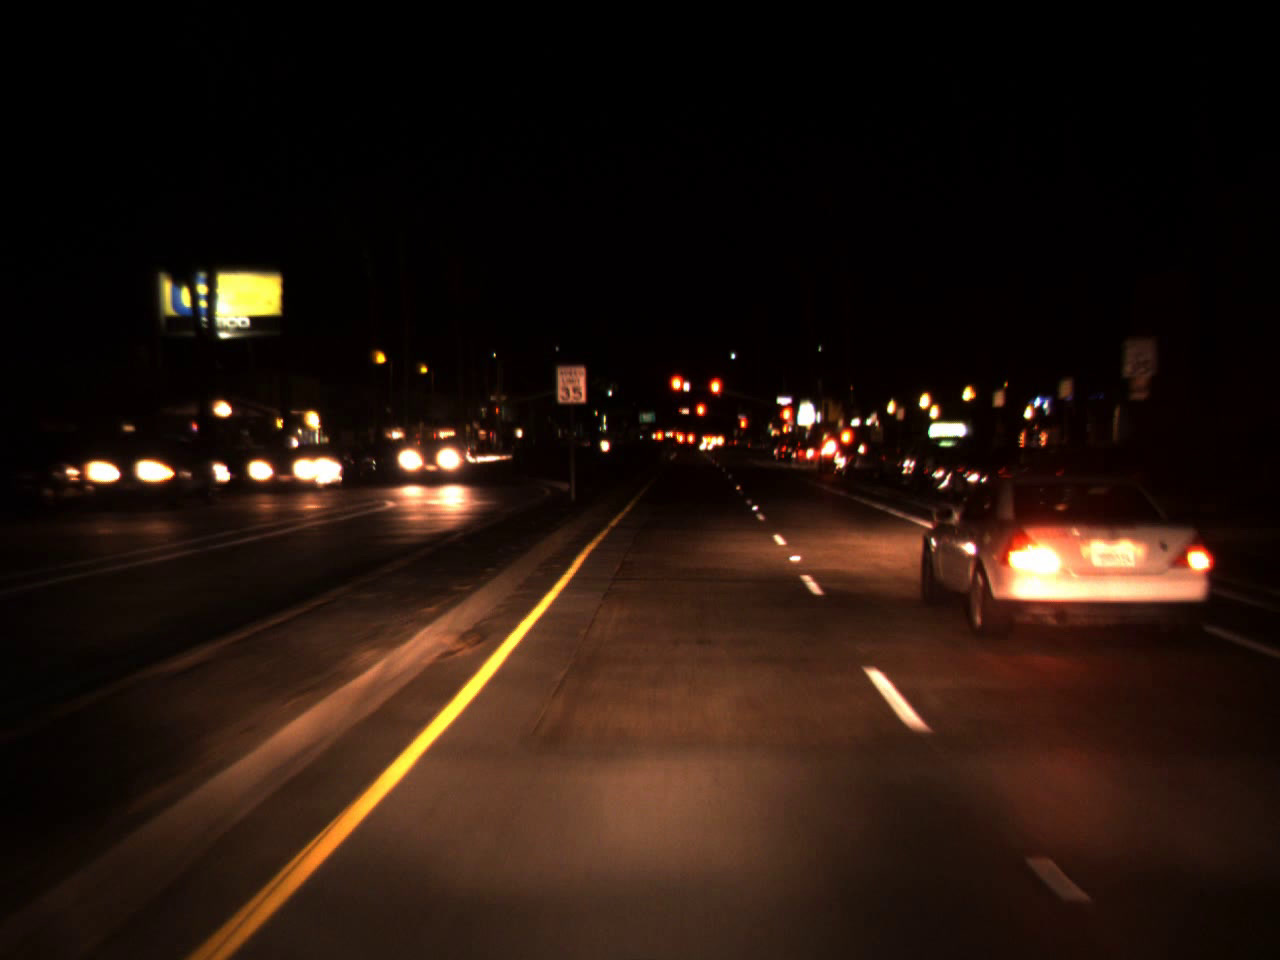stop: (666, 372, 687, 409), (707, 376, 722, 411), (739, 415, 746, 442), (696, 404, 705, 425), (782, 409, 789, 427)
